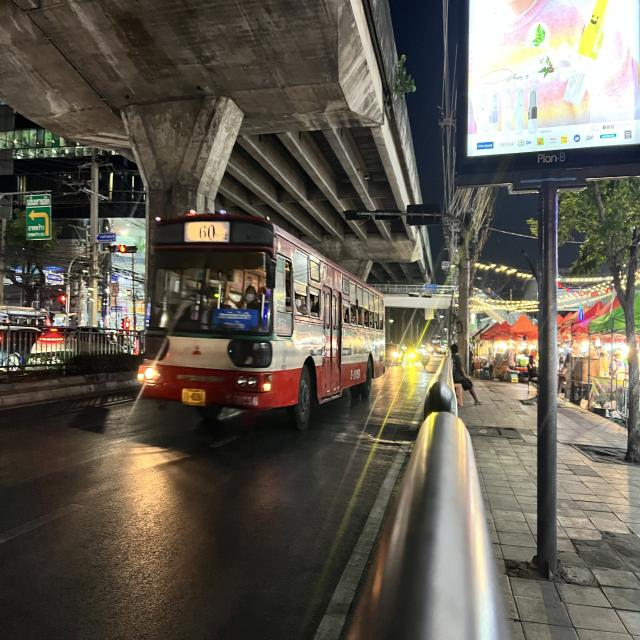BMTA-bus: (128, 212, 386, 445)
Bus-Line-Number: (183, 222, 231, 241)
Destination-Sign-Normal: (212, 310, 259, 333)
